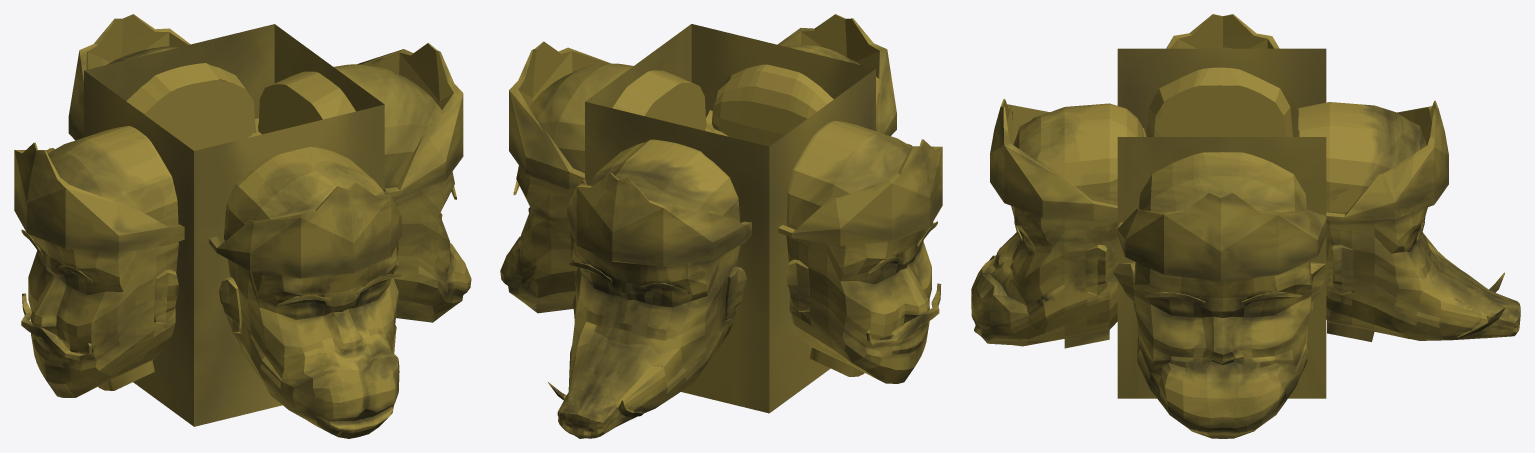
The model's file is f_spin_heads.fbx.
3 views of the same model, side by side, from view 1: azimuth 30°, elevation 25°; view 2: azimuth 150°, elevation 25°; view 3: azimuth 270°, elevation 25° (orthographic). The views are drawn at different scales.
Parts seen in each view (by area): view 1: Cube.001; view 2: Cube.001; view 3: Cube.001.
Boxes of the visible parts, x1,y1,x2,y2 form: Cube.001: (14,14,471,438); Cube.001: (500,14,942,438); Cube.001: (971,14,1520,438).
Bounding box in the file's own units: 249 × 153 × 291.
